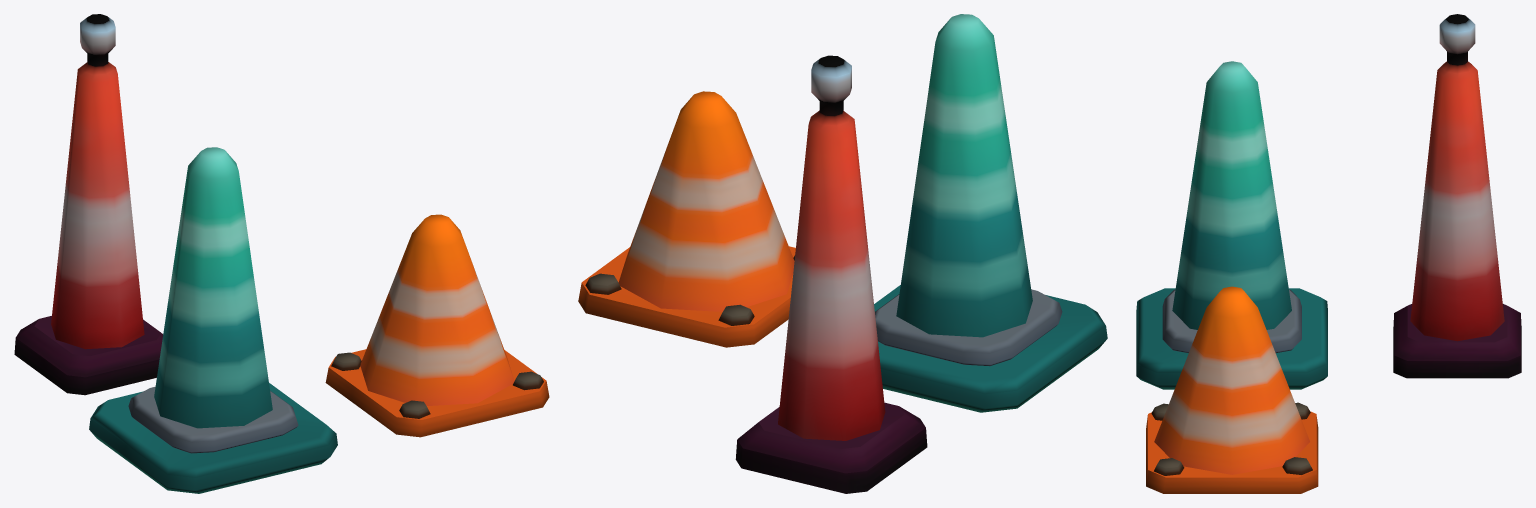
Rendered from cones.fbx.
3 views of the same model, side by side, from view 1: azimuth 30°, elevation 25°; view 2: azimuth 150°, elevation 25°; view 3: azimuth 270°, elevation 25° (orthographic). The views are drawn at different scales.
Parts seen in each view (by area): view 1: Cone1, Cone2, Cone3; view 2: Cone1, Cone2, Cone3; view 3: Cone1, Cone2, Cone3.
Part boxes in pixels (bbox=[...]): Cone1: bbox=[89, 147, 337, 493]; Cone2: bbox=[14, 14, 163, 395]; Cone3: bbox=[325, 214, 549, 437]; Cone1: bbox=[874, 14, 1107, 412]; Cone2: bbox=[735, 55, 927, 493]; Cone3: bbox=[578, 91, 795, 347]; Cone1: bbox=[1136, 61, 1327, 389]; Cone2: bbox=[1393, 14, 1521, 378]; Cone3: bbox=[1146, 286, 1318, 493].
Size of the model in its own units: 41.49 by 35.09 by 36.84.
